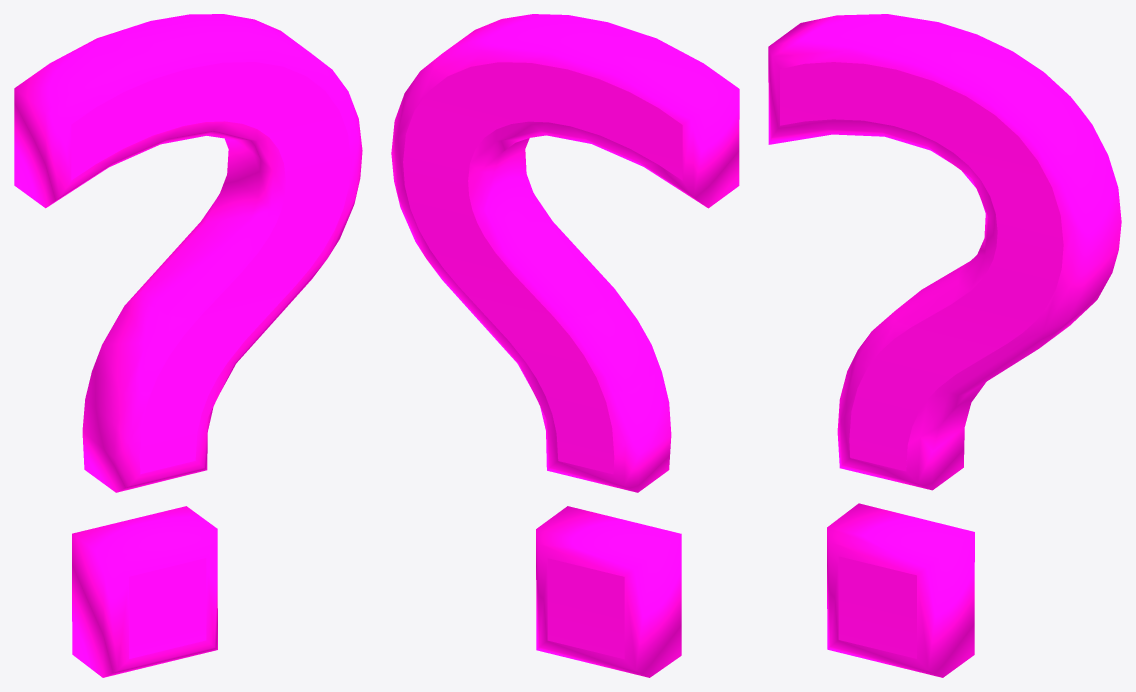
Rendered from 07259cb0-d3e4-468e-9ab3-fd6373dec092.glb.
The picture shows the model from 3 angles, left to right: view 1: azimuth 30°, elevation 25°; view 2: azimuth 150°, elevation 25°; view 3: azimuth 330°, elevation 25°; orthographic projection.
Visible parts, largest first — view 1: IndicatorQuestionMarkPink; view 2: IndicatorQuestionMarkPink; view 3: IndicatorQuestionMarkPink.
Boxes of the visible parts, x1,y1,x2,y2 form: IndicatorQuestionMarkPink: (14,14,362,677); IndicatorQuestionMarkPink: (391,14,739,677); IndicatorQuestionMarkPink: (768,14,1121,677).
Size of the model in its own units: 0.2591 by 0.4808 by 0.0645.
Materials: 1 (1 with a texture image).
